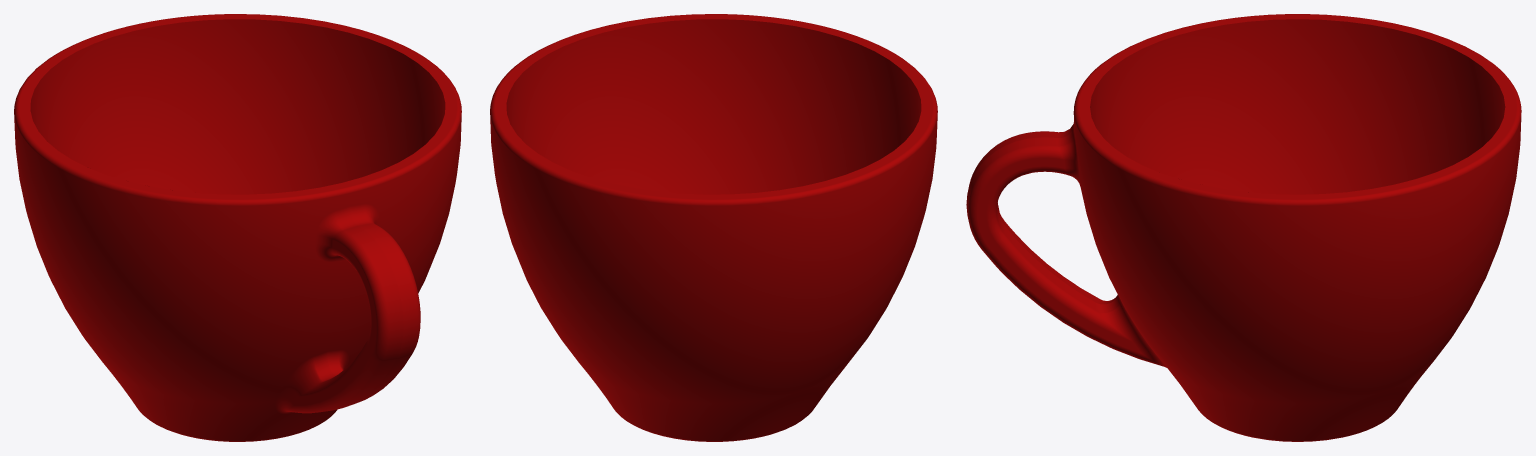
The model's file is COMUG.glb.
3 views of the same model, side by side, from view 1: azimuth 30°, elevation 25°; view 2: azimuth 150°, elevation 25°; view 3: azimuth 270°, elevation 25° (orthographic).
Size of the model in its own units: 0.09 by 0.065 by 0.1116.
